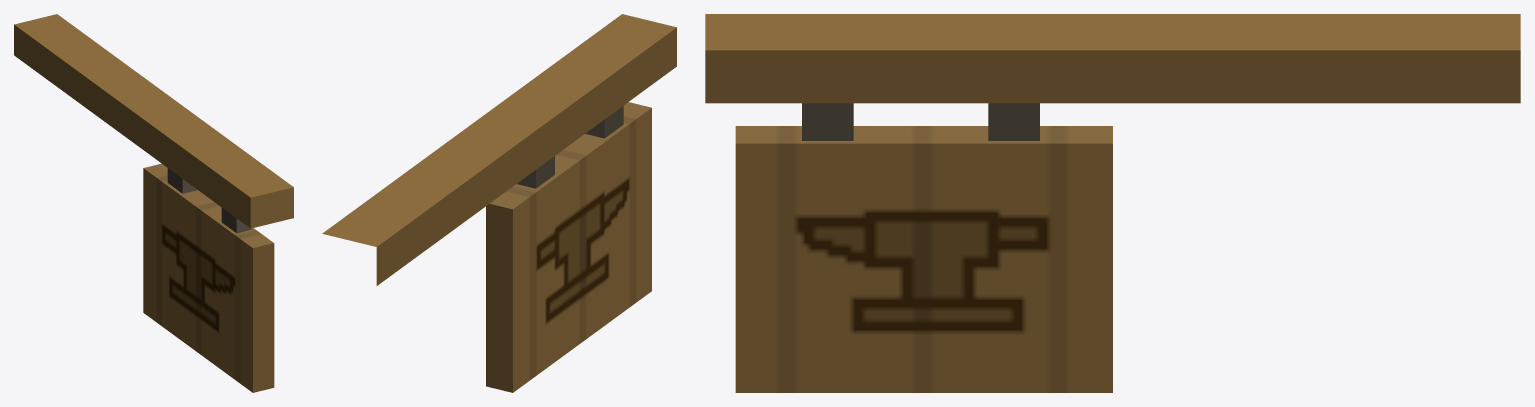
The model's file is HouseAdd_Sign_Blacksmith.gltf.
3 views of the same model, side by side, from view 1: azimuth 30°, elevation 25°; view 2: azimuth 150°, elevation 25°; view 3: azimuth 270°, elevation 25° (orthographic). The views are drawn at different scales.
Visible parts, largest first — view 1: SF_Bld_HouseAdd_Sign_Blacksmith_01; view 2: SF_Bld_HouseAdd_Sign_Blacksmith_01; view 3: SF_Bld_HouseAdd_Sign_Blacksmith_01.
Boxes of the visible parts, x1,y1,x2,y2 form: SF_Bld_HouseAdd_Sign_Blacksmith_01: (14, 14, 293, 392); SF_Bld_HouseAdd_Sign_Blacksmith_01: (322, 14, 676, 392); SF_Bld_HouseAdd_Sign_Blacksmith_01: (705, 14, 1520, 392).
Size of the model in its own units: 0.00409 by 0.0185 by 0.0389.
Materials: 1 (1 with a texture image).
